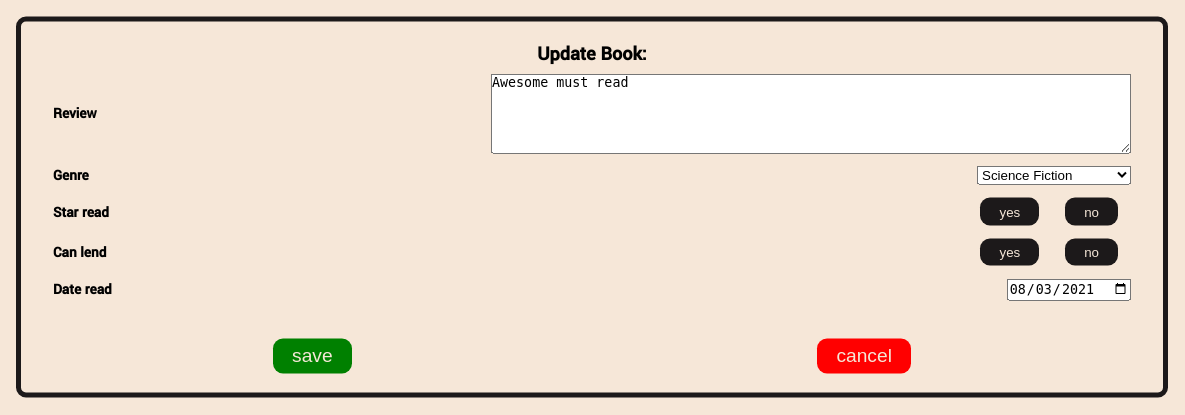
Test case: Edit Book Modal › Should change review text when user changes review
In the text box: (811,113) x1=491 y1=73 x2=1131 y2=153, type " additional review content"
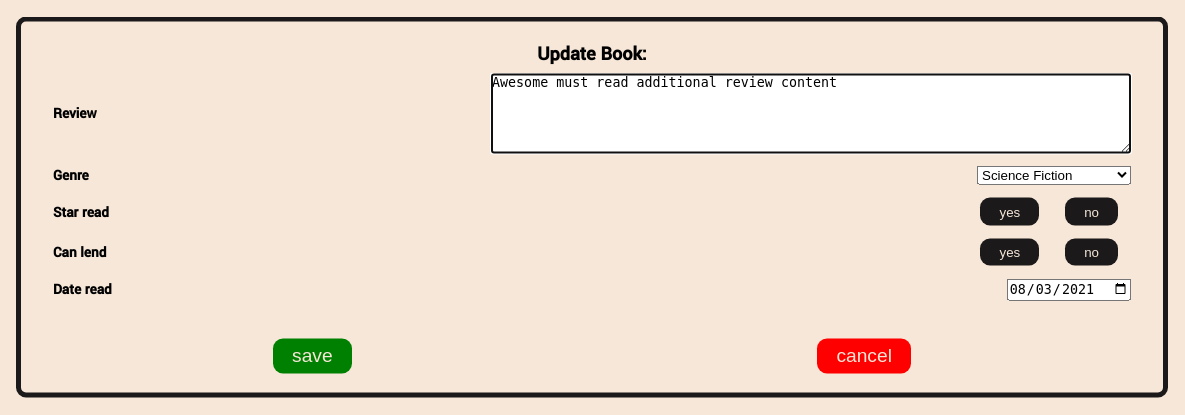
Expected: the text box "additional review content" is shown, x1=491 y1=73 x2=1131 y2=153
